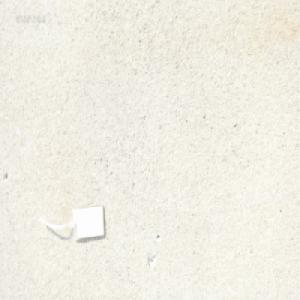LuggageTag: (39, 201, 108, 243)
